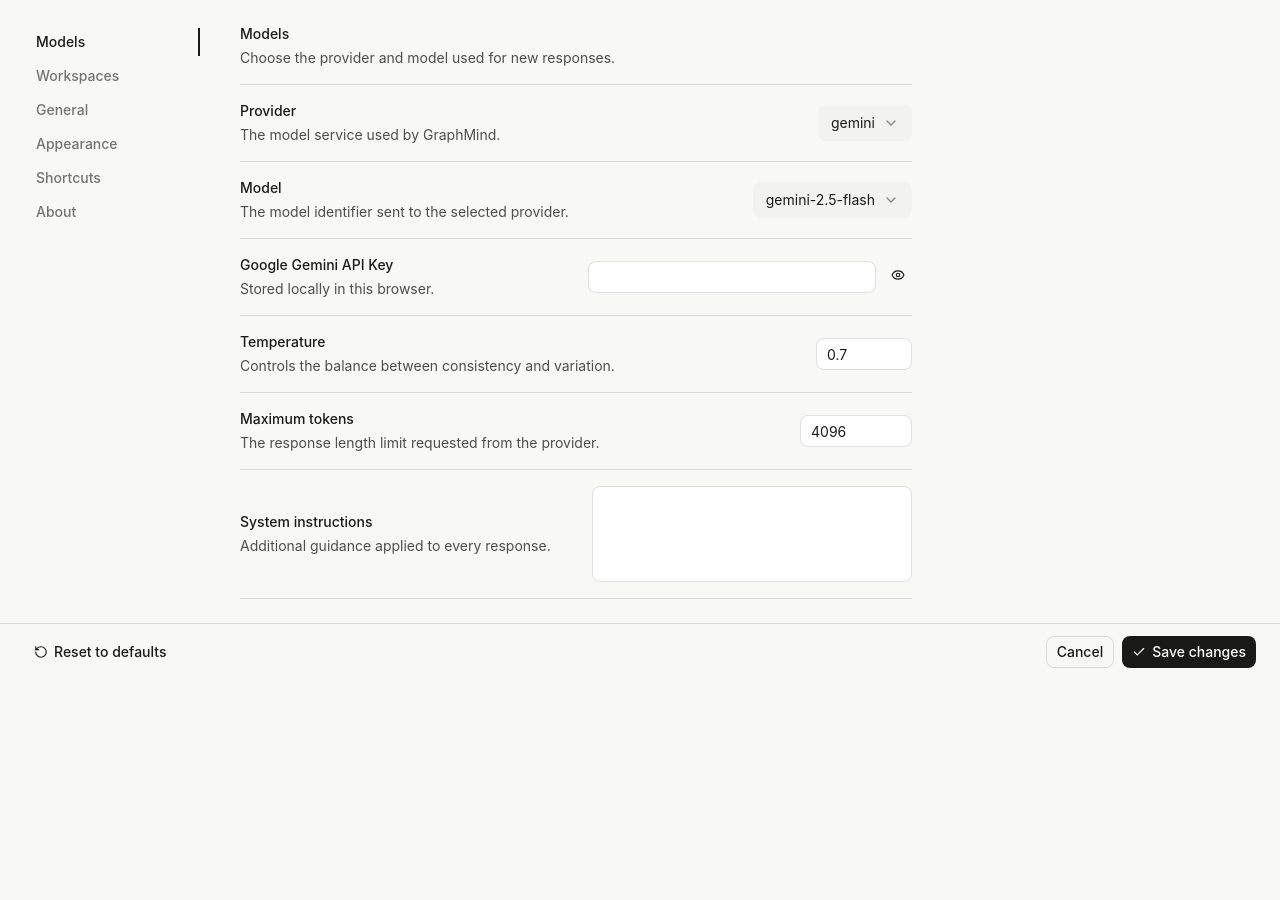
Test: LSI-045 destructive-action boundaries › labels the local reset as non-destructive and distinct from deletion
Click the button "Reset to defaults" at (100, 652), box left=24, top=636, right=176, bottom=668
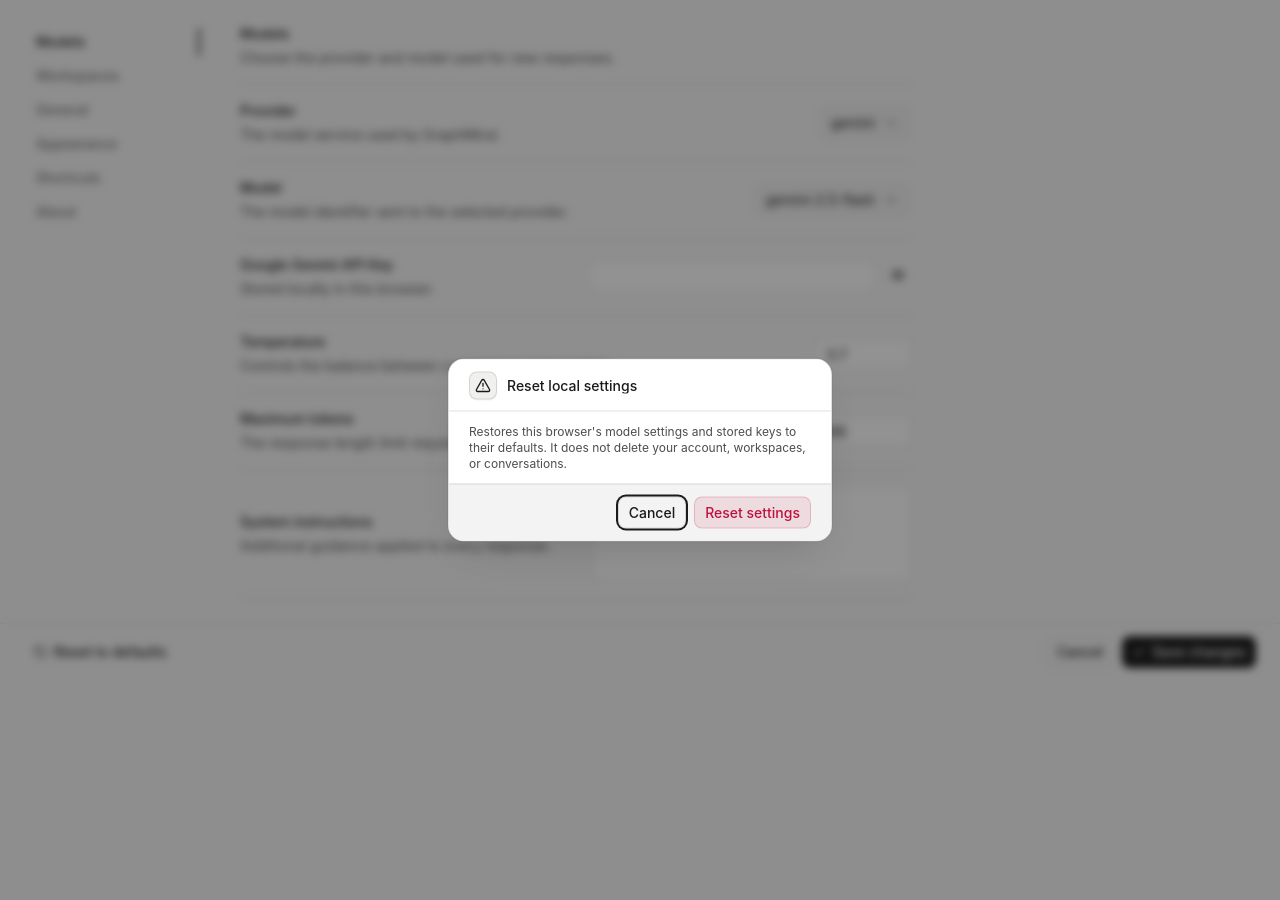
Now the heading "Reset local settings" is shown, box left=507, top=376, right=637, bottom=394
Now the text "does not delete your account, workspaces, or conversations" is shown, box left=469, top=424, right=806, bottom=470
